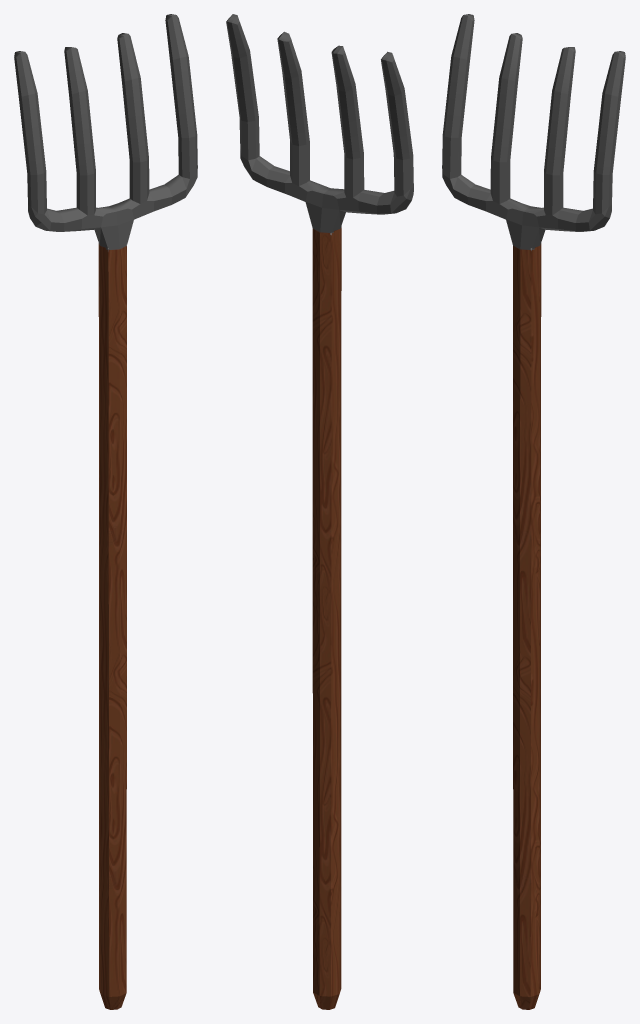
File: ARC0710054.fbx
3 views of the same model, side by side, from view 1: azimuth 30°, elevation 25°; view 2: azimuth 150°, elevation 25°; view 3: azimuth 330°, elevation 25° (orthographic). The views are drawn at different scales.
Parts seen in each view (by area): view 1: smARC0710054; view 2: smARC0710054; view 3: smARC0710054.
Boxes of the visible parts, x1,y1,x2,y2 form: smARC0710054: [14, 14, 197, 1009]; smARC0710054: [226, 14, 413, 1009]; smARC0710054: [442, 14, 625, 1009].
Bounding box in the file's own units: 28.39 × 156 × 7.99.
Materials: 1 (1 with a texture image).
